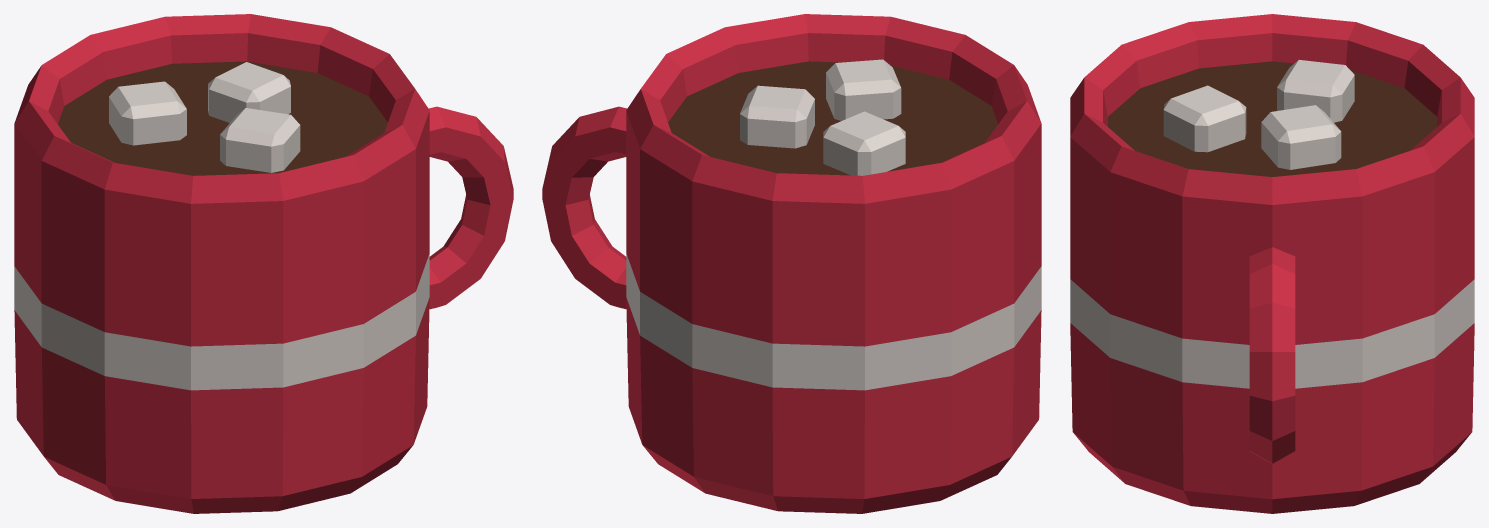
The model's file is HotCocoa.glb.
The picture shows the model from 3 angles, left to right: view 1: azimuth 30°, elevation 25°; view 2: azimuth 150°, elevation 25°; view 3: azimuth 270°, elevation 25°; orthographic projection.
Parts seen in each view (by area): view 1: HotCocoa; view 2: HotCocoa; view 3: HotCocoa.
Boxes of the visible parts, <box> form: HotCocoa: <box>14,14,513,513</box>; HotCocoa: <box>542,14,1041,513</box>; HotCocoa: <box>1070,14,1474,513</box>.
Bounding box in the file's own units: 3.38 × 2.32 × 2.52.
